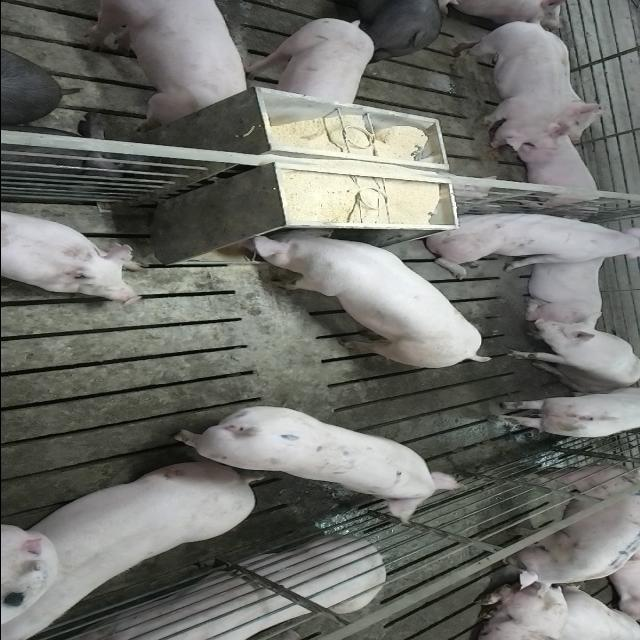Feeding: (245, 220, 493, 366)
Sitting: (418, 209, 636, 271), (502, 319, 638, 391)
Standing: (166, 406, 466, 526), (75, 2, 253, 126), (504, 463, 640, 592), (452, 16, 562, 154), (240, 18, 374, 108), (482, 387, 638, 441), (328, 0, 450, 55)
Sternal_lying: (66, 540, 384, 640), (0, 206, 146, 306), (507, 132, 606, 212), (520, 248, 606, 330), (535, 77, 614, 142)
